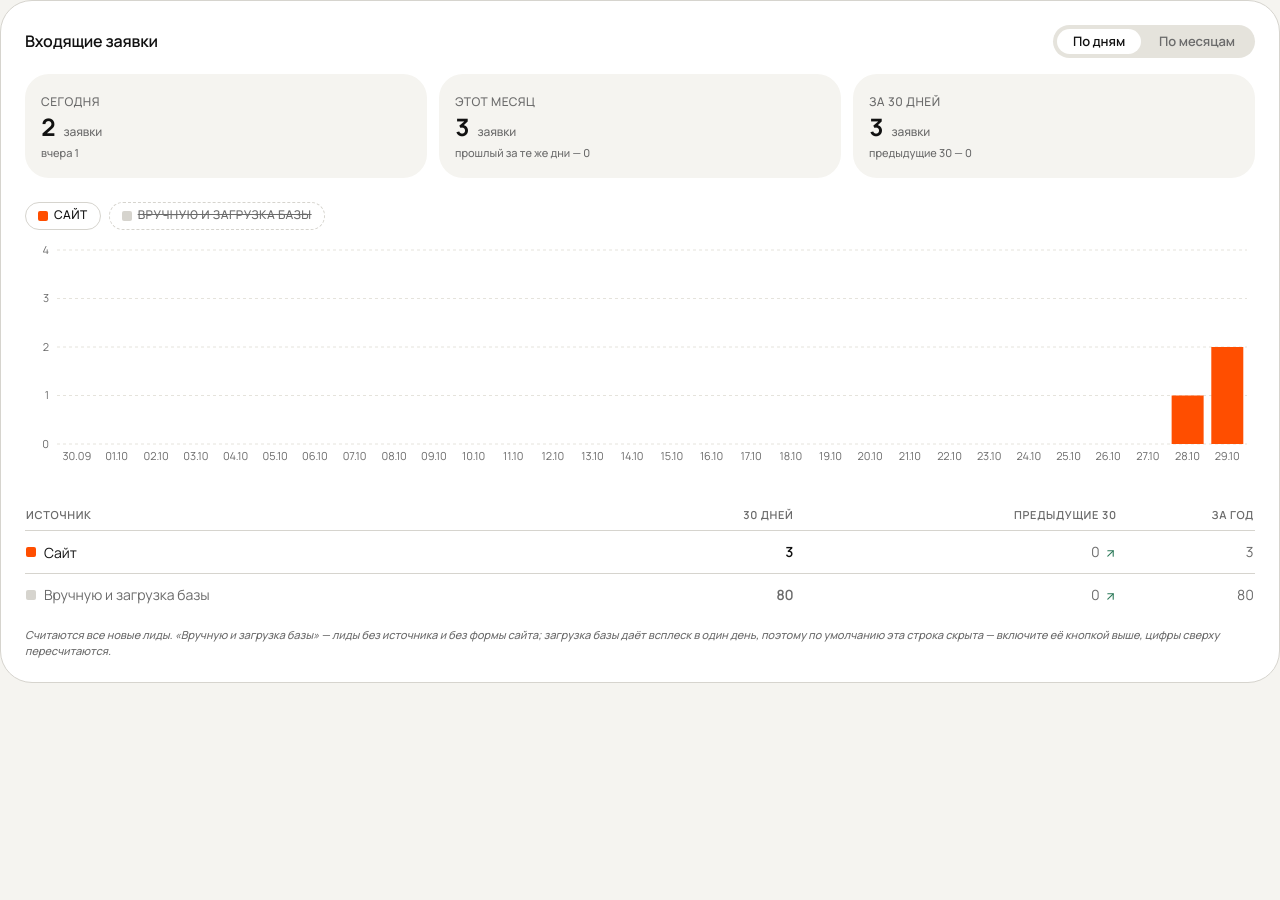
InflowCard › leaves the base-load bucket out of the numbers until it is switched on
expect the text "2" is shown: met, box top-left (41, 115), bottom-right (55, 139)
expect the text "вчера 1" is shown: met, box top-left (41, 145), bottom-right (79, 160)
Click the button "Вручную и загрузка базы" at x=217, y=216, box top-left (109, 202), bottom-right (325, 230)
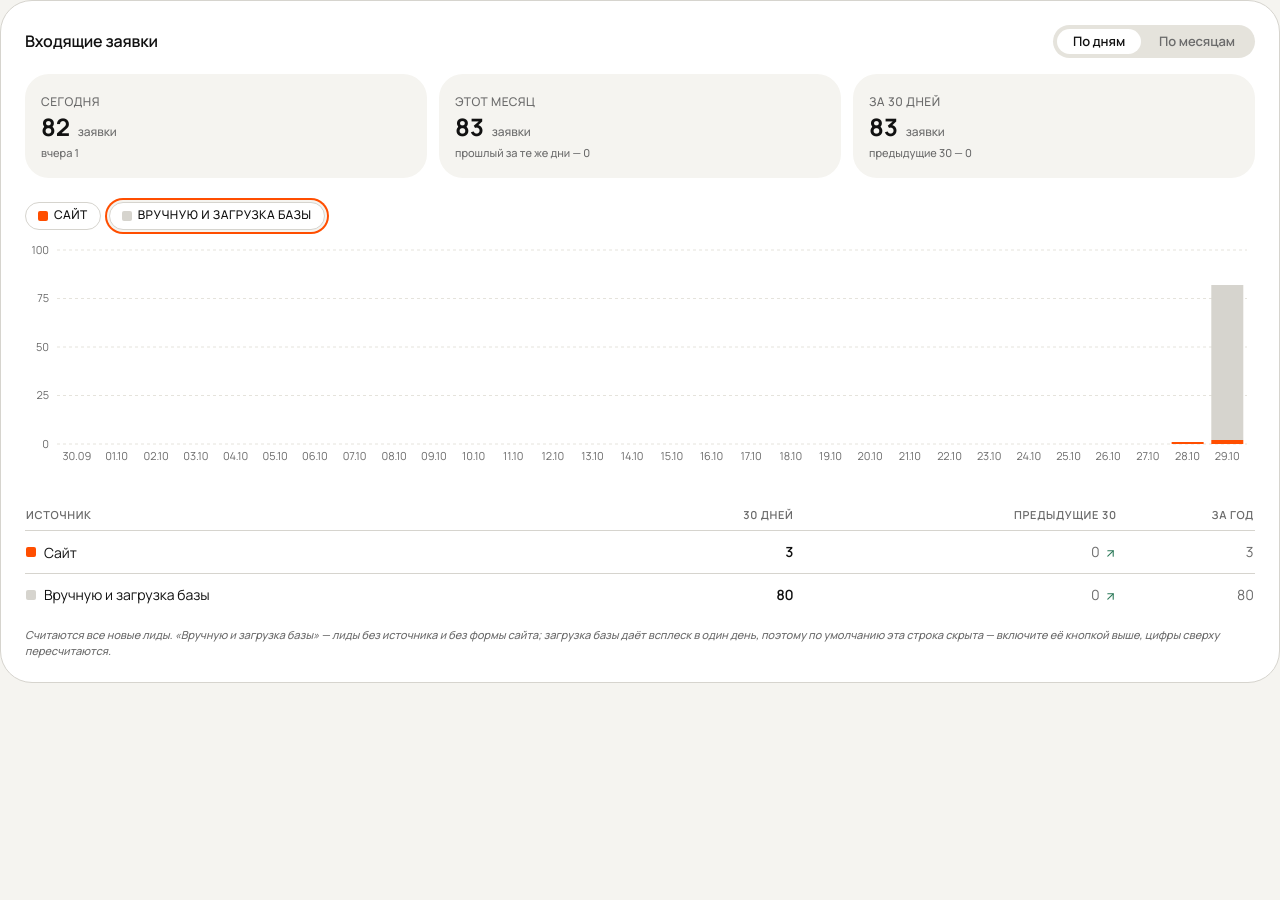
expect the text "82" is shown: met, box top-left (41, 115), bottom-right (70, 139)
